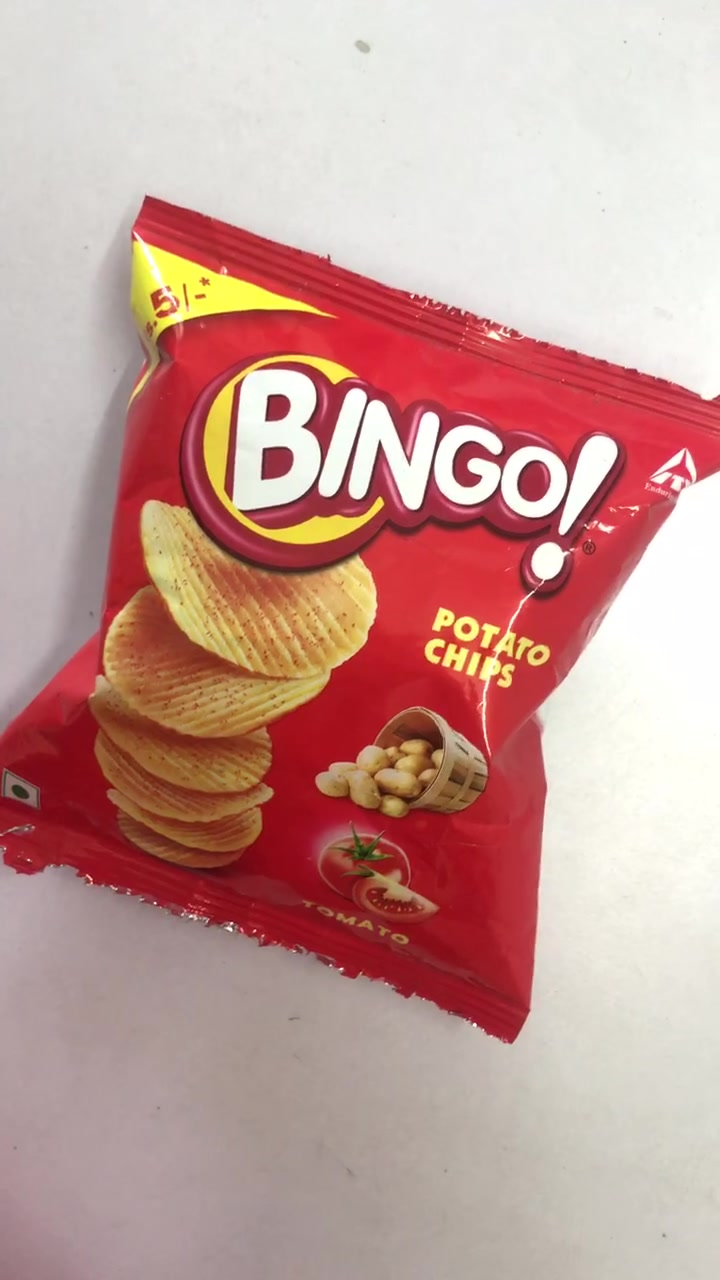Bingo: (12, 193, 720, 1043)
